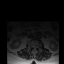CCS_normal: (34, 44, 35, 51)
LFS_normal: (37, 44, 38, 49)
LLS_normal: (35, 45, 37, 50)
RFS_stenosis: (30, 44, 32, 48)
RLS_normal: (32, 44, 34, 49)
